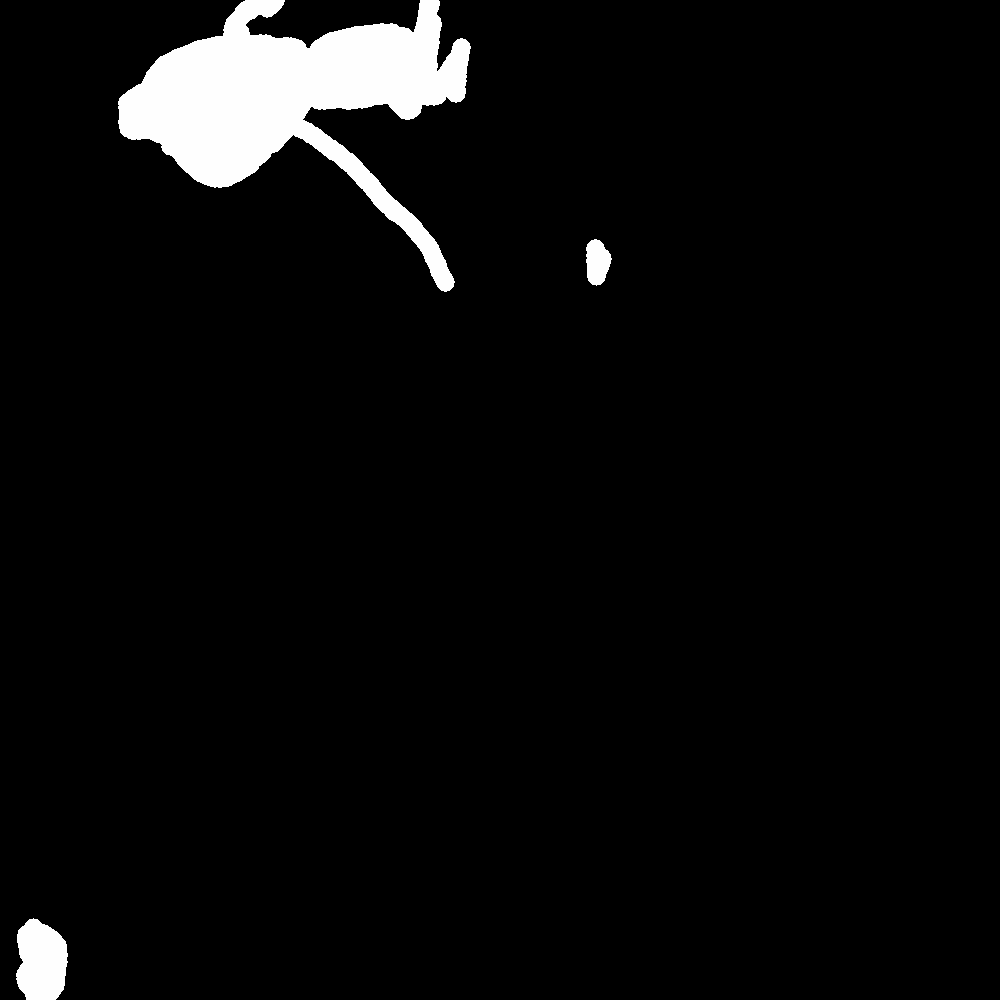illegal: (101, 1, 482, 205), (1, 915, 109, 1000)
